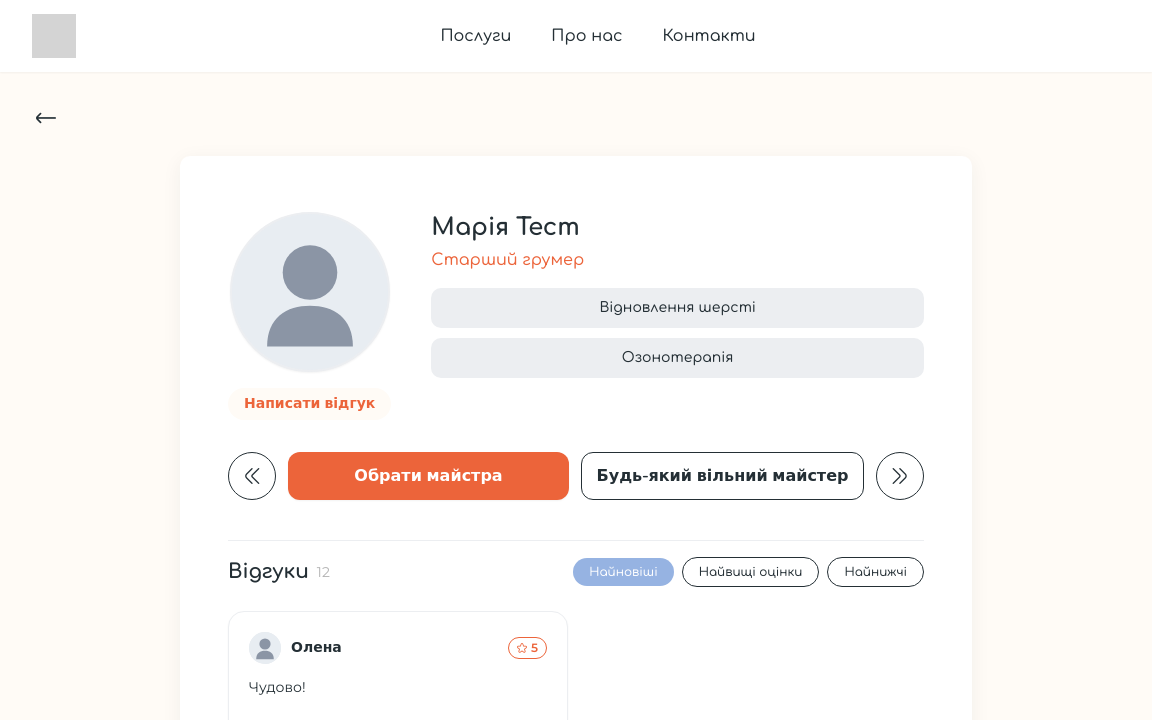
BookingPage › advances from stage 3 to stage 4 when choosing specific master
Click the button "Обрати майстра": (428, 476) 288,452 -> 569,500
(page scrolled)
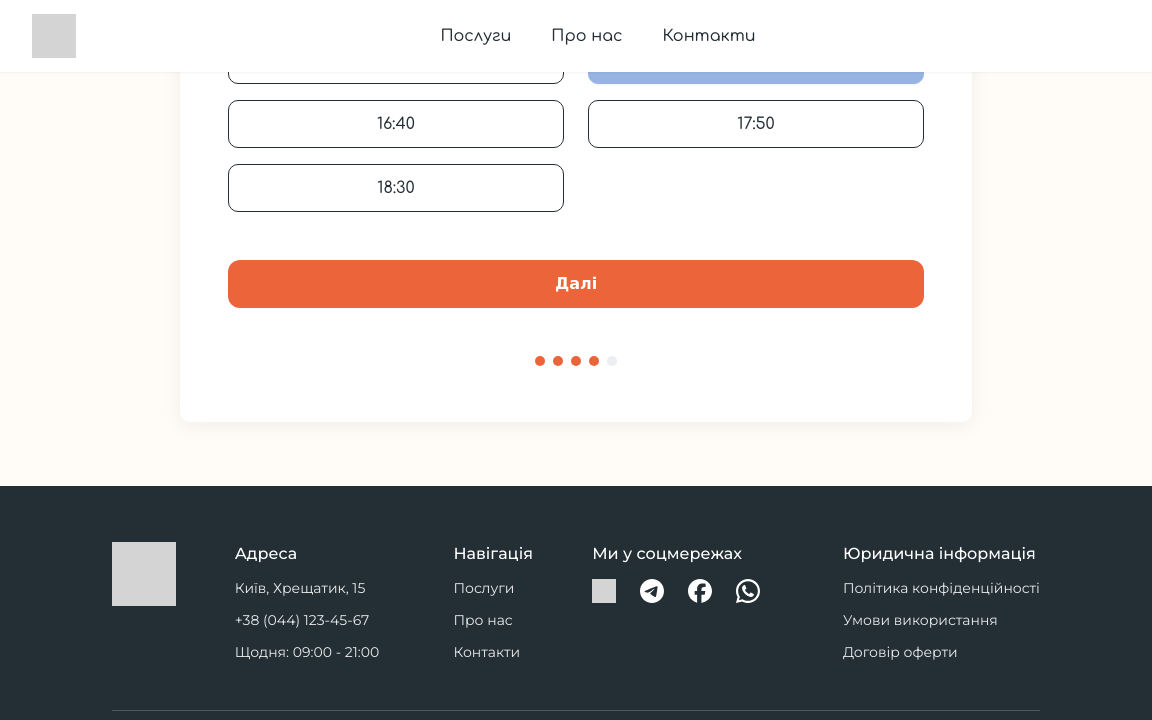
Expected: the progress indicator named "Крок 4 з 5" is shown, 535,356 -> 617,366
